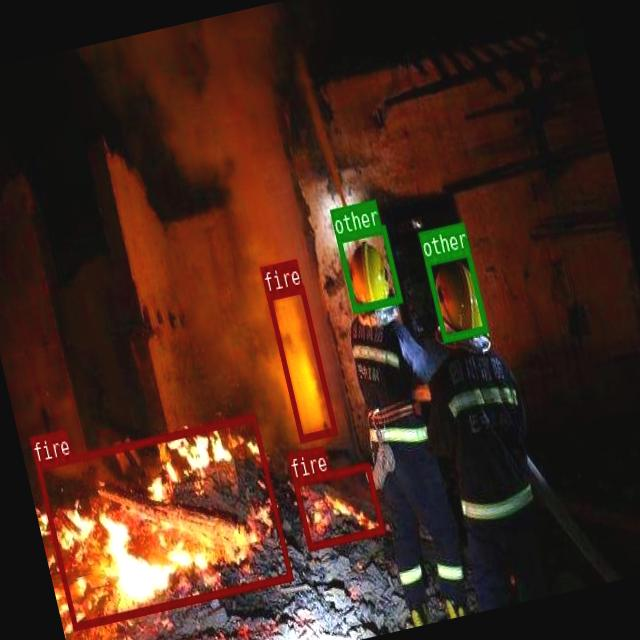fire: (34, 411, 292, 629), (264, 283, 336, 440), (292, 461, 384, 549)
